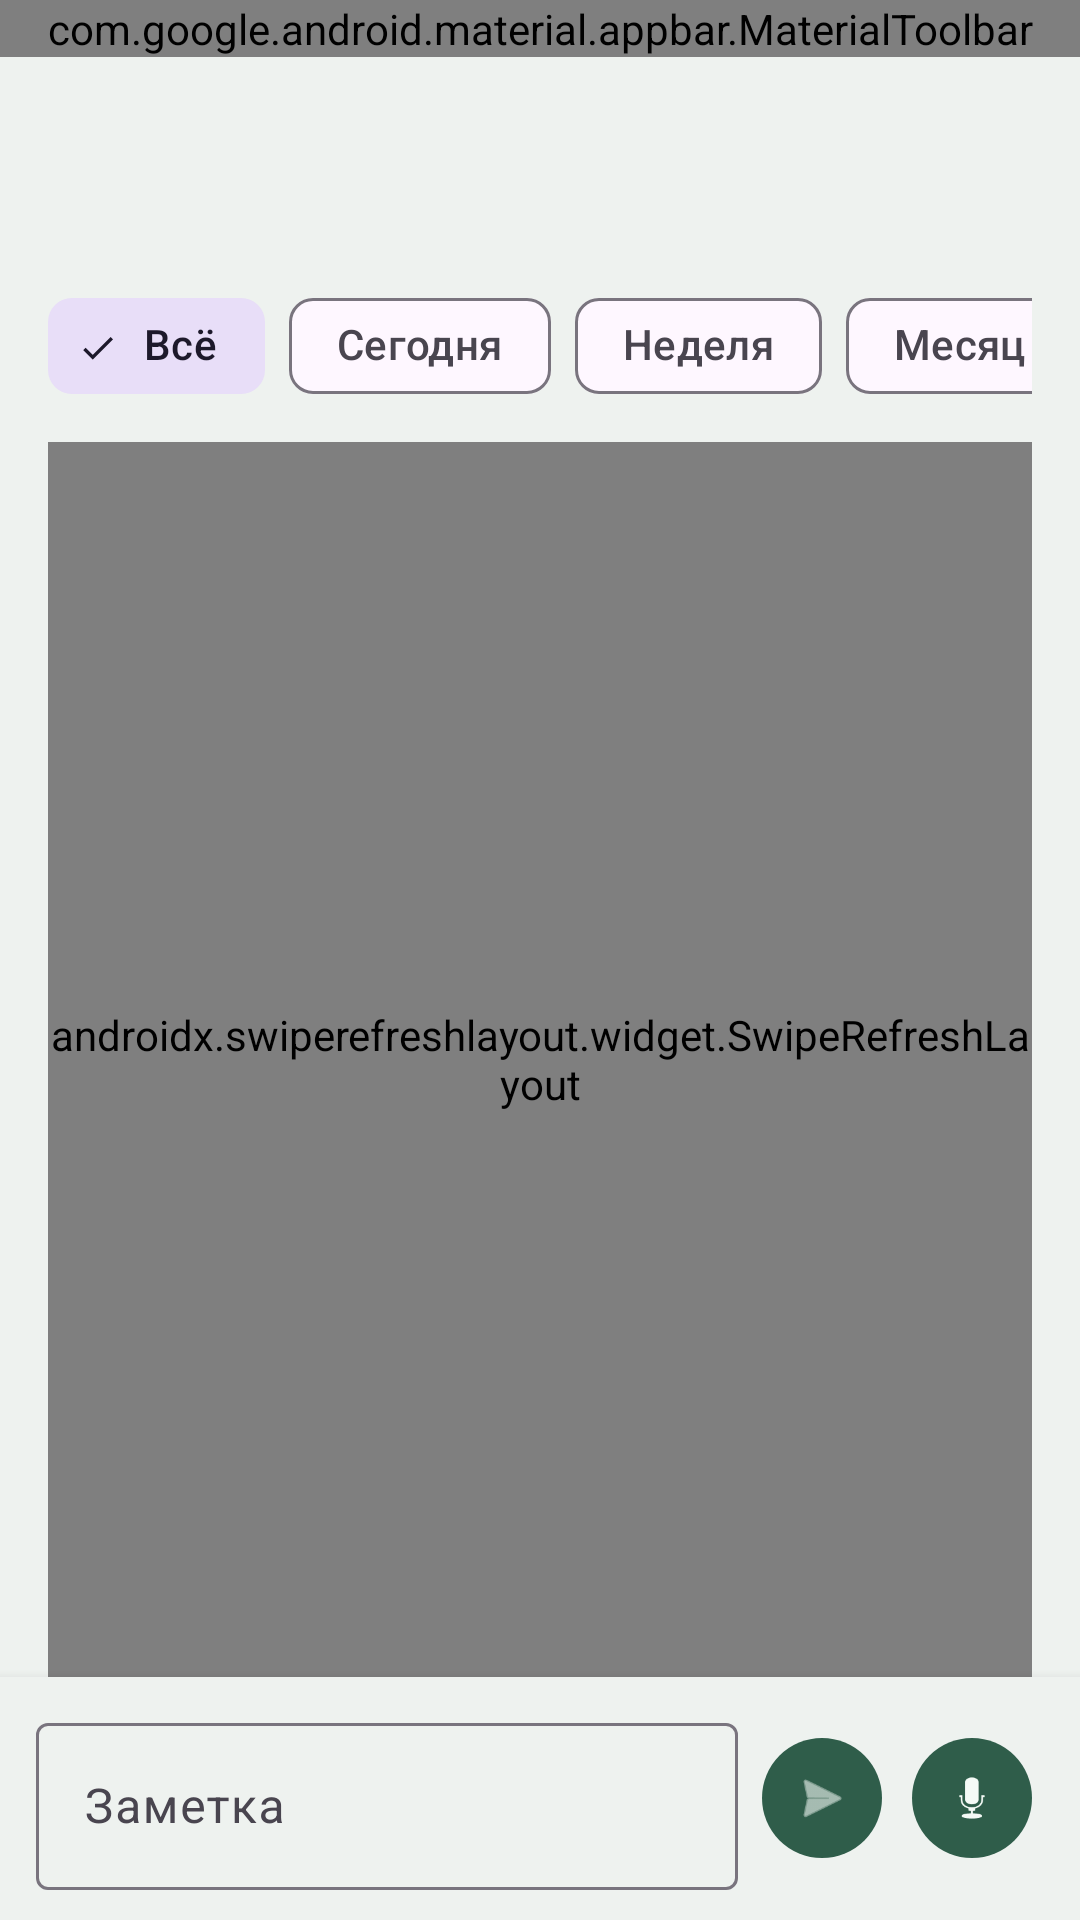

Icons on this 1080x1920 Android screen, each with its box as (x1, y1, x2, y2):
Отправить: (762, 1738, 882, 1858)
Продиктовать: (912, 1738, 1032, 1858)
